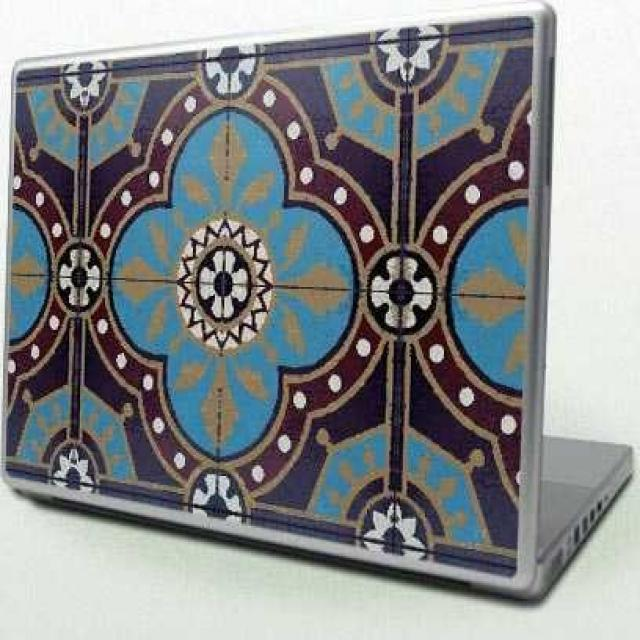laptop: (1, 3, 636, 600)
